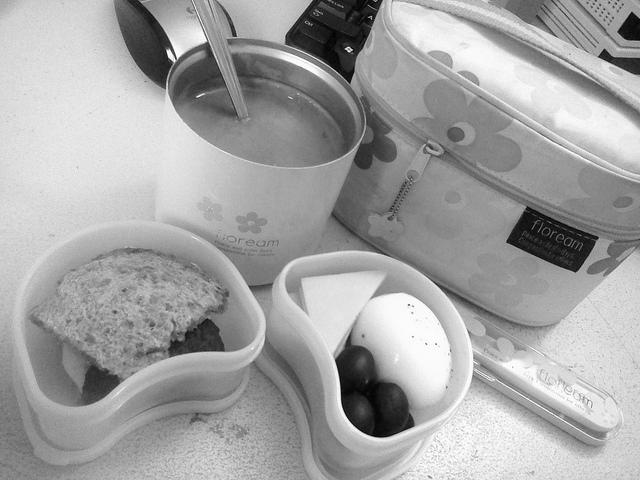glass: (157, 38, 365, 284)
